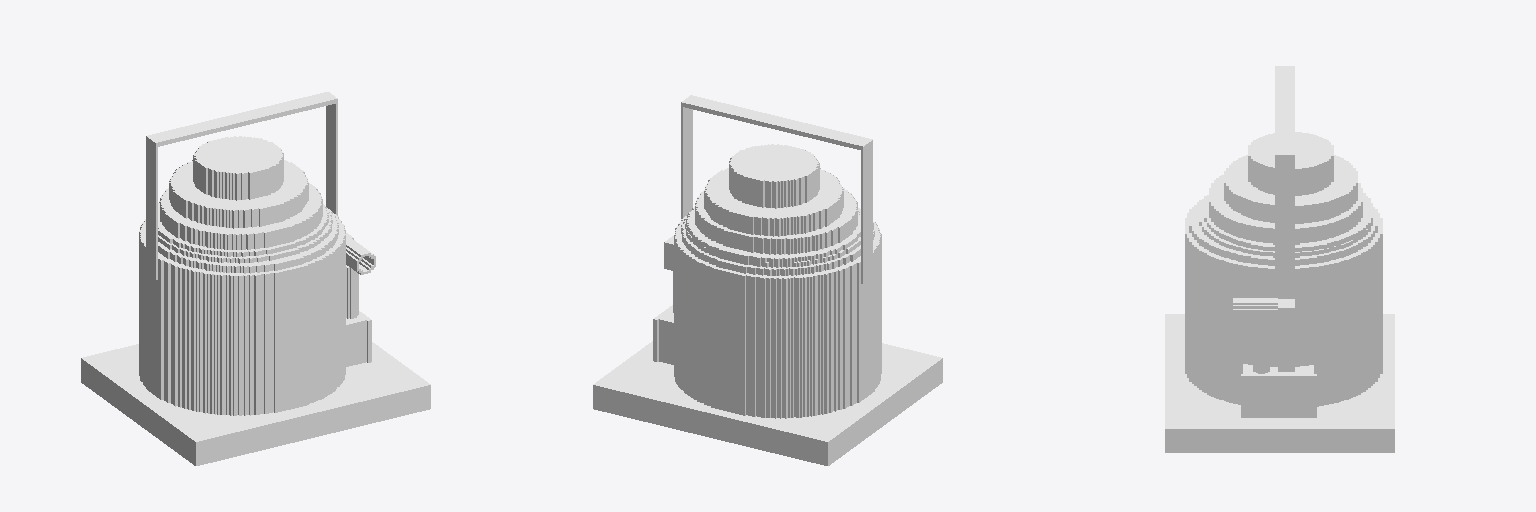
Rendered from gatoTorre.obj.
The picture shows the model from 3 angles: view 1: azimuth 30°, elevation 25°; view 2: azimuth 150°, elevation 25°; view 3: azimuth 270°, elevation 25°; orthographic projection.
Parts seen in each view (by area): view 1: object 1; view 2: object 1; view 3: object 1.
Boxes of the visible parts, <box> form: object 1: <box>81,92,430,465</box>; object 1: <box>593,95,942,465</box>; object 1: <box>1165,66,1394,452</box>.
Size of the model in its own units: 11.1 by 12.6 by 9.4.